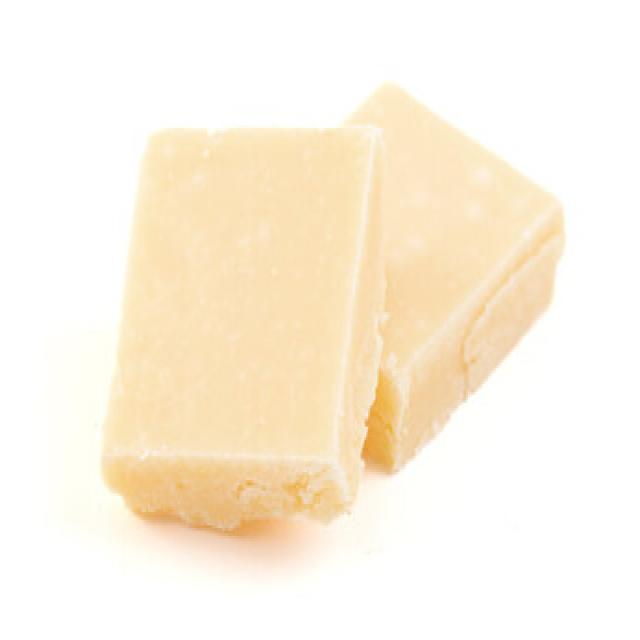Chocolate: (98, 120, 398, 544), (321, 85, 565, 486)
